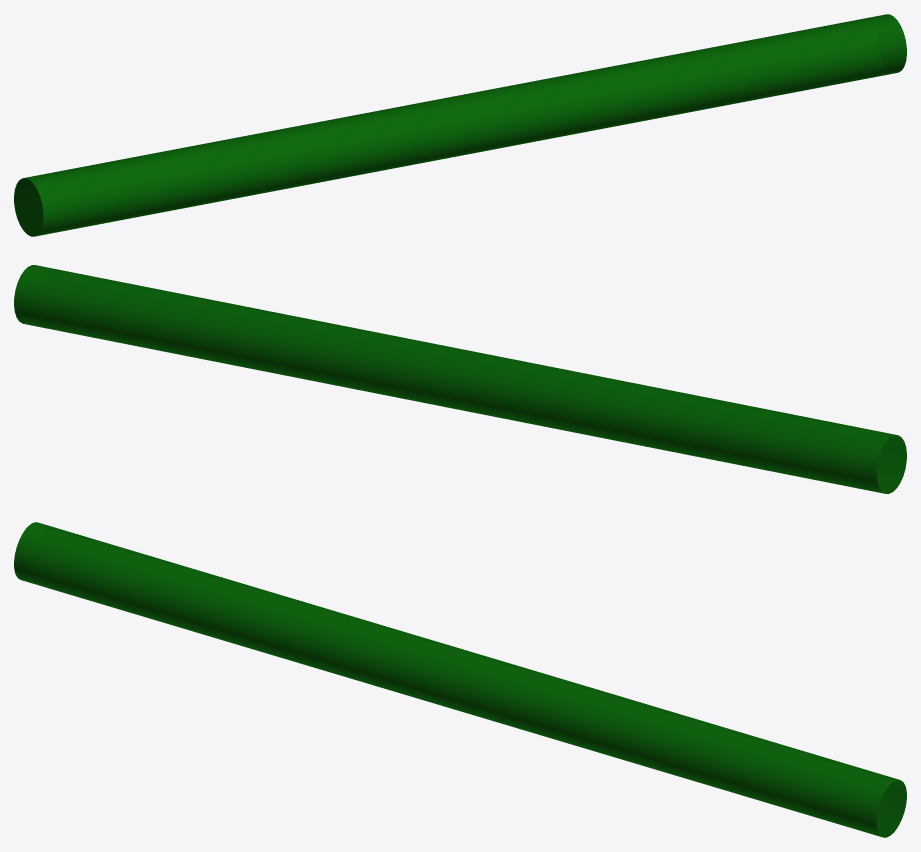
The model's file is Event_421115418_jet_13.fbx.
The picture shows the model from 3 angles, top to bottom: view 1: azimuth 30°, elevation 25°; view 2: azimuth 150°, elevation 25°; view 3: azimuth 330°, elevation 25°; orthographic projection.
Visible parts, largest first — view 1: Model; view 2: Model; view 3: Model.
Boxes of the visible parts, bbox=[...] form: Model: bbox=[14, 14, 906, 236]; Model: bbox=[14, 265, 906, 493]; Model: bbox=[14, 522, 906, 837].
Bounding box in the file's own units: 0.6676 × 0.0721 × 0.0446.
